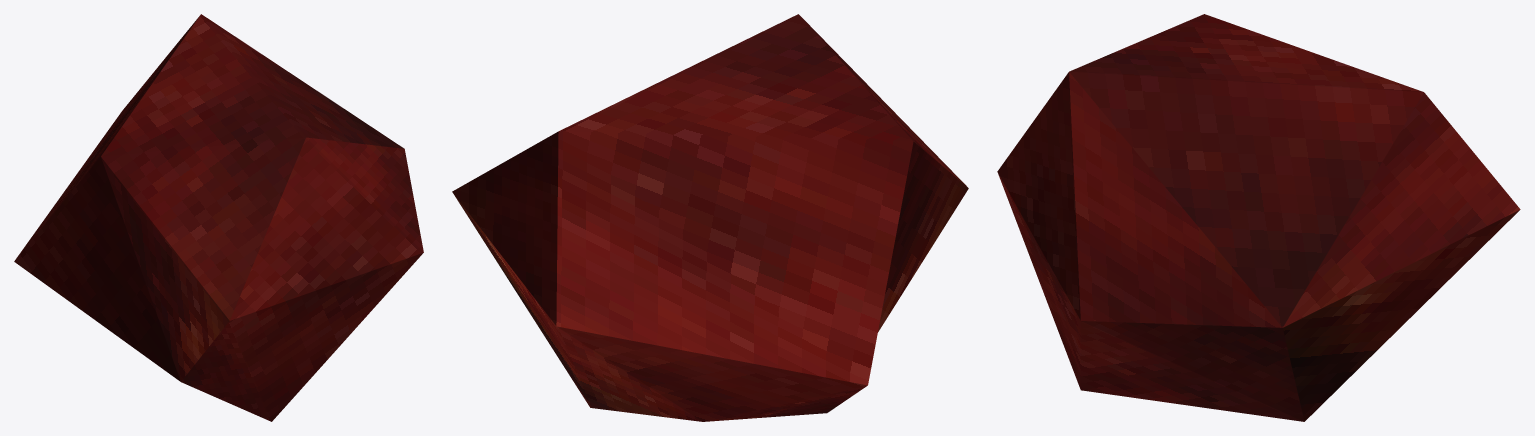
File: gib2.glb
3 views of the same model, side by side, from view 1: azimuth 30°, elevation 25°; view 2: azimuth 150°, elevation 25°; view 3: azimuth 270°, elevation 25° (orthographic). The views are drawn at different scales.
Parts seen in each view (by area): view 1: Gib2; view 2: Gib2; view 3: Gib2.
Part boxes in pixels (left/top/right/bottom): Gib2: left=14, top=14, right=423, bottom=421; Gib2: left=452, top=14, right=968, bottom=421; Gib2: left=997, top=14, right=1520, bottom=421.
Size of the model in its own units: 0.7833 by 0.5898 by 0.8209.
1 material, 1 textured.
